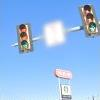traffic lights: (78, 4, 99, 36), (16, 23, 33, 54)
